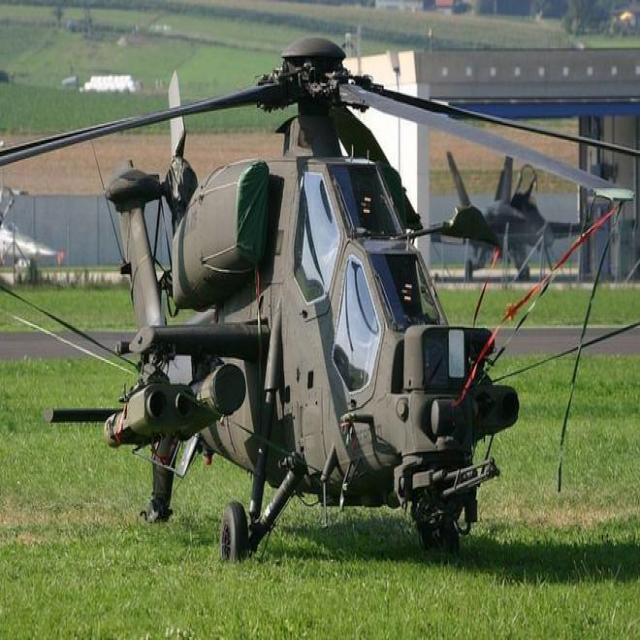MIL_HELO: (0, 16, 640, 568)
